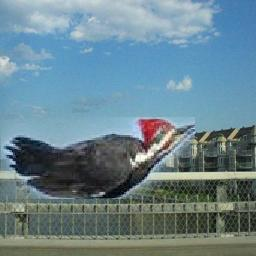Woodpecker: (1, 117, 195, 199)
